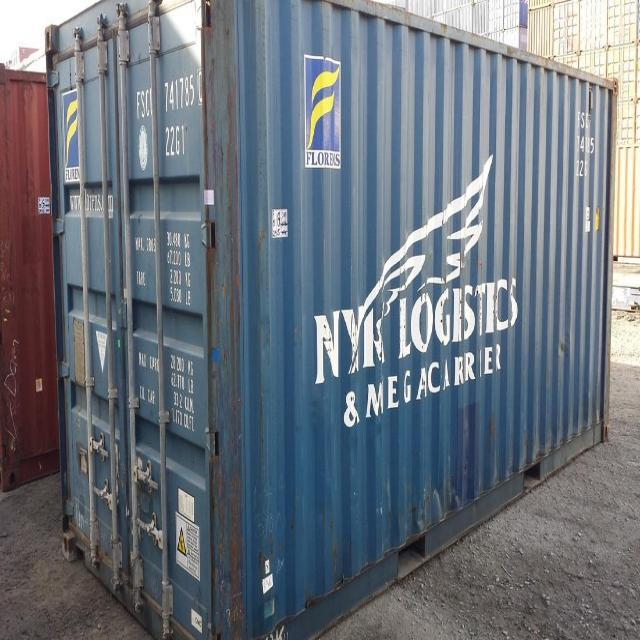ISO: (164, 130, 192, 154)
container_number: (127, 71, 206, 109)
